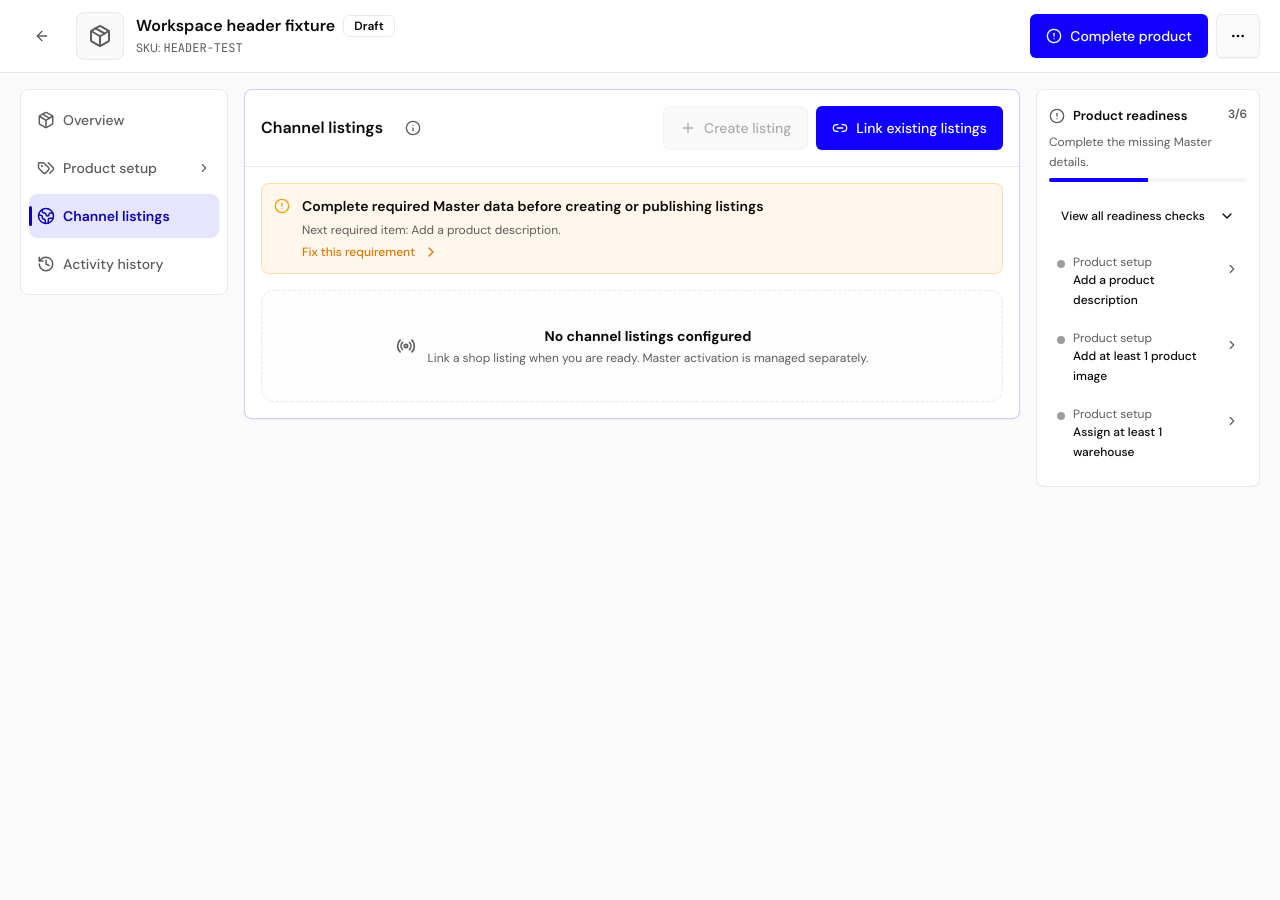
Scenario: Consistent Product Master workspace headers › keeps channel actions in the listing card header without changing incomplete-Master gating
Check: the button "Create listing" is disabled, box [663,106,808,150]
Click the button "Link existing listings" at (910, 128), box [816,106,1003,150]
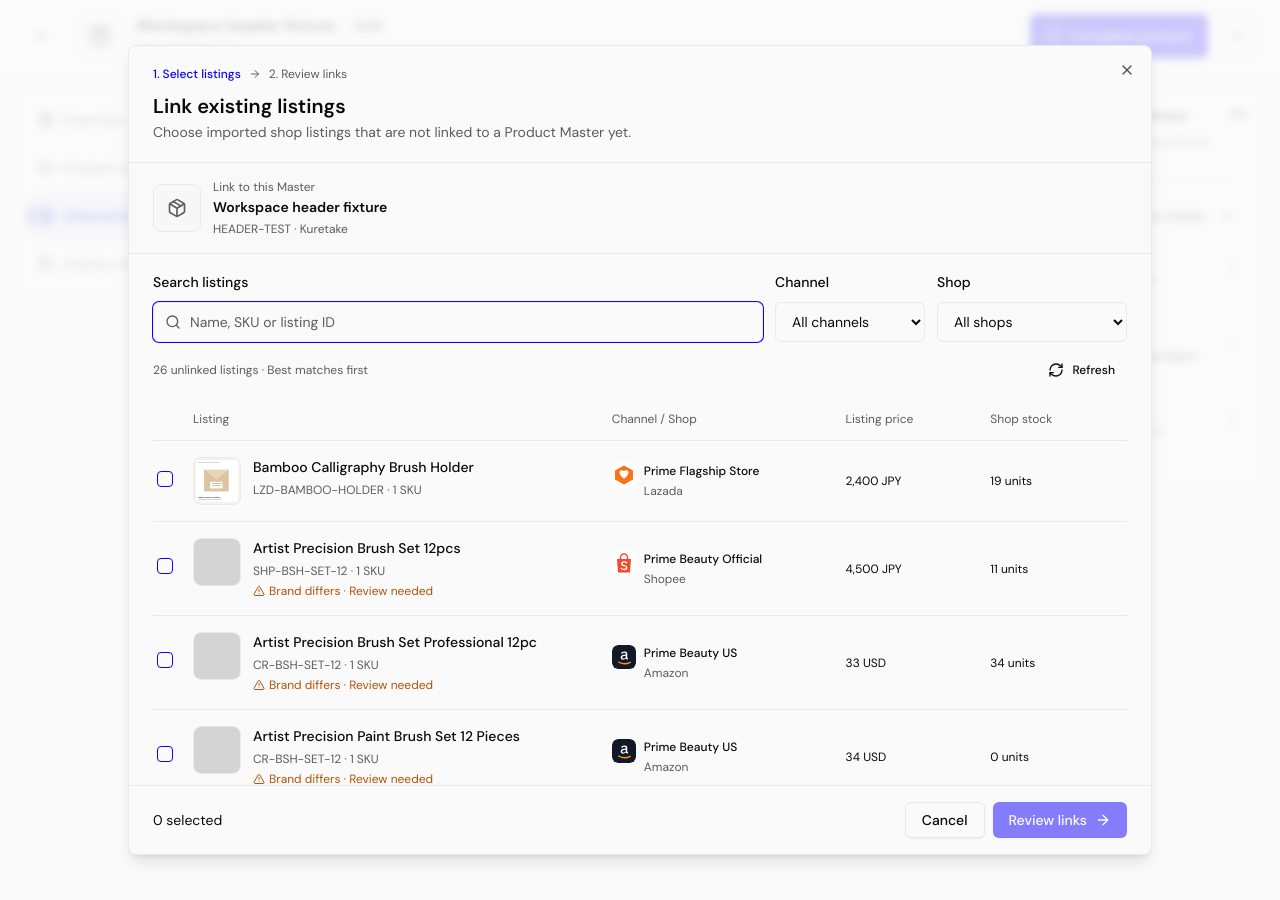
Check: the dialog is shown
